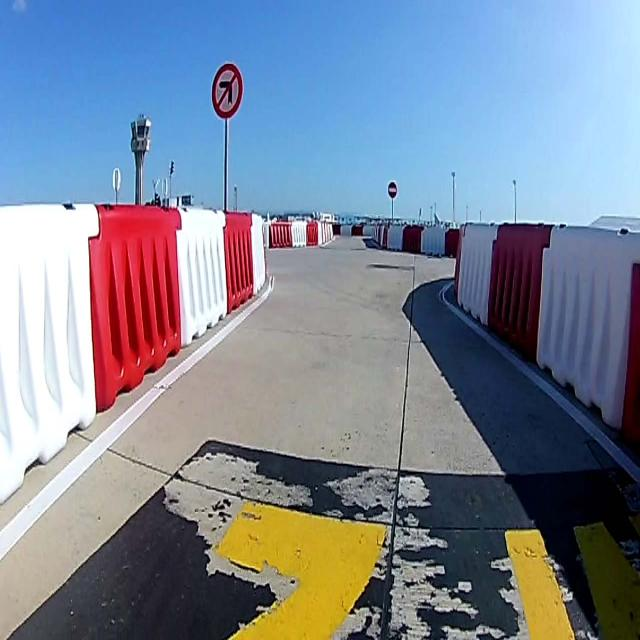soladonulmez: (212, 65, 242, 116)
